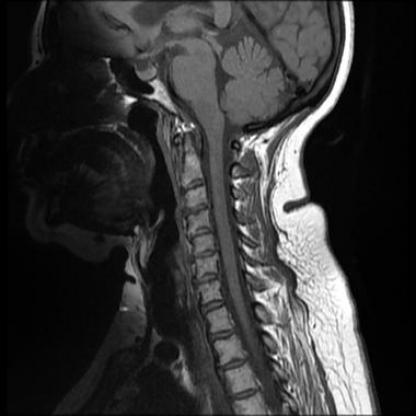Disc Protrusionrotation: (185, 225, 216, 242), (191, 271, 223, 286), (188, 248, 220, 262), (181, 203, 213, 217)
Osteophytesrotation: (185, 225, 216, 242), (191, 271, 223, 286), (181, 202, 213, 217), (188, 248, 220, 262)
